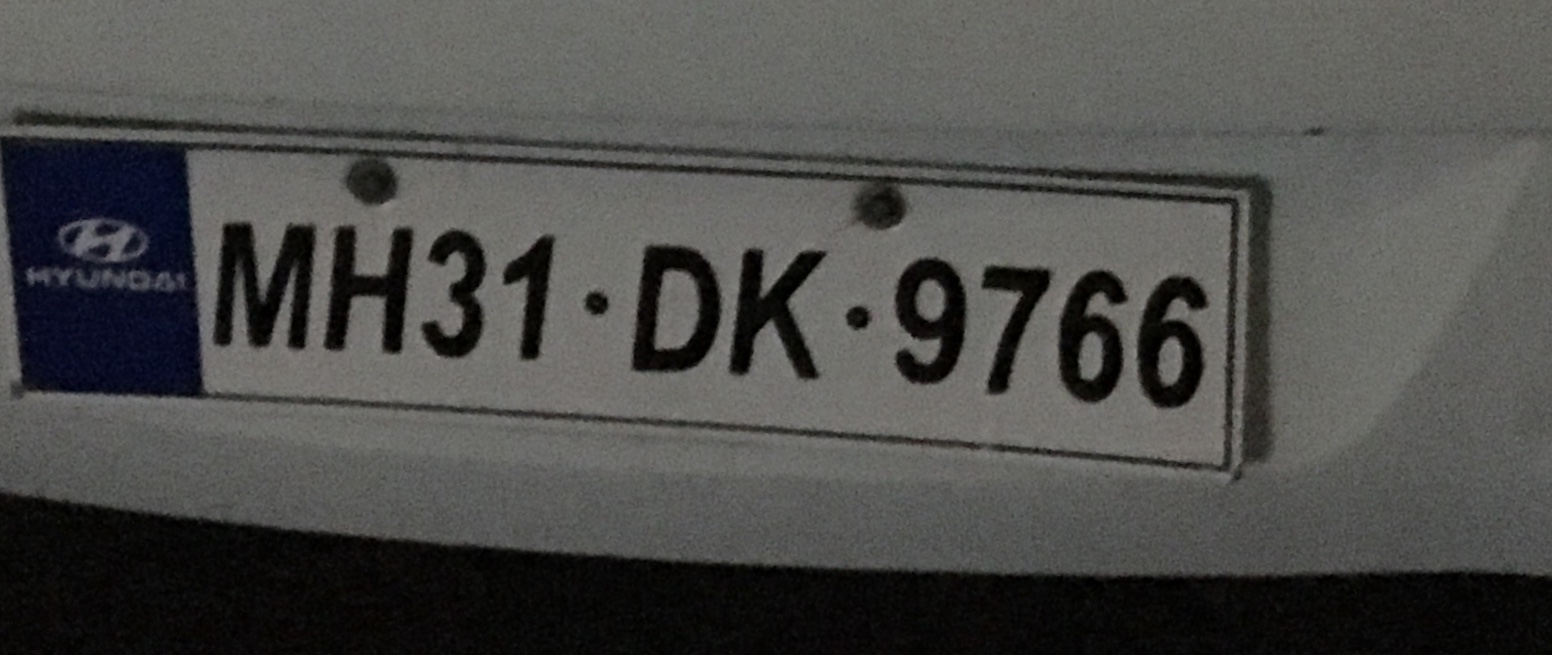numberplate: (1, 120, 1251, 490)
